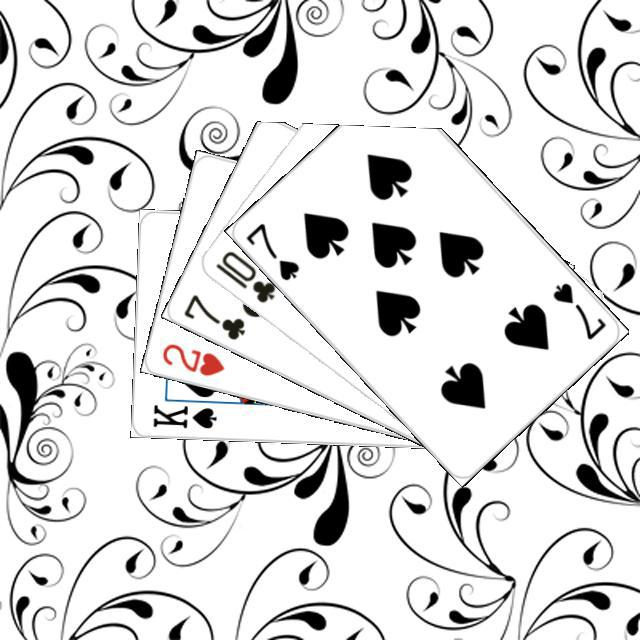10c: (210, 246, 277, 305)
2h: (157, 338, 226, 378)
7c: (178, 289, 247, 342)
7s: (547, 277, 608, 342), (241, 218, 301, 283)
Ks: (148, 400, 218, 431)
